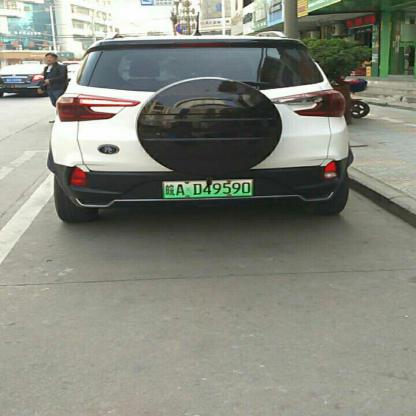lp: (163, 178, 255, 197)
